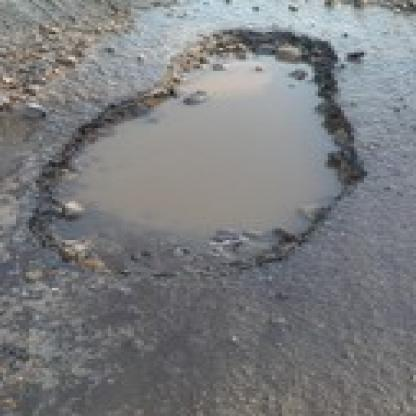pothole: (29, 21, 367, 284)
